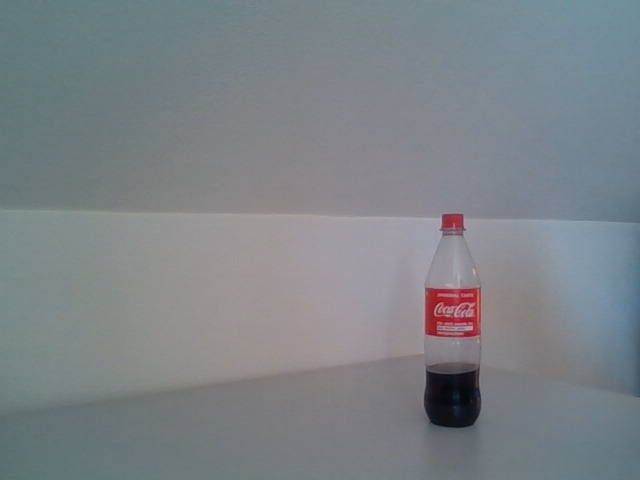bottle: (423, 213, 482, 428)
